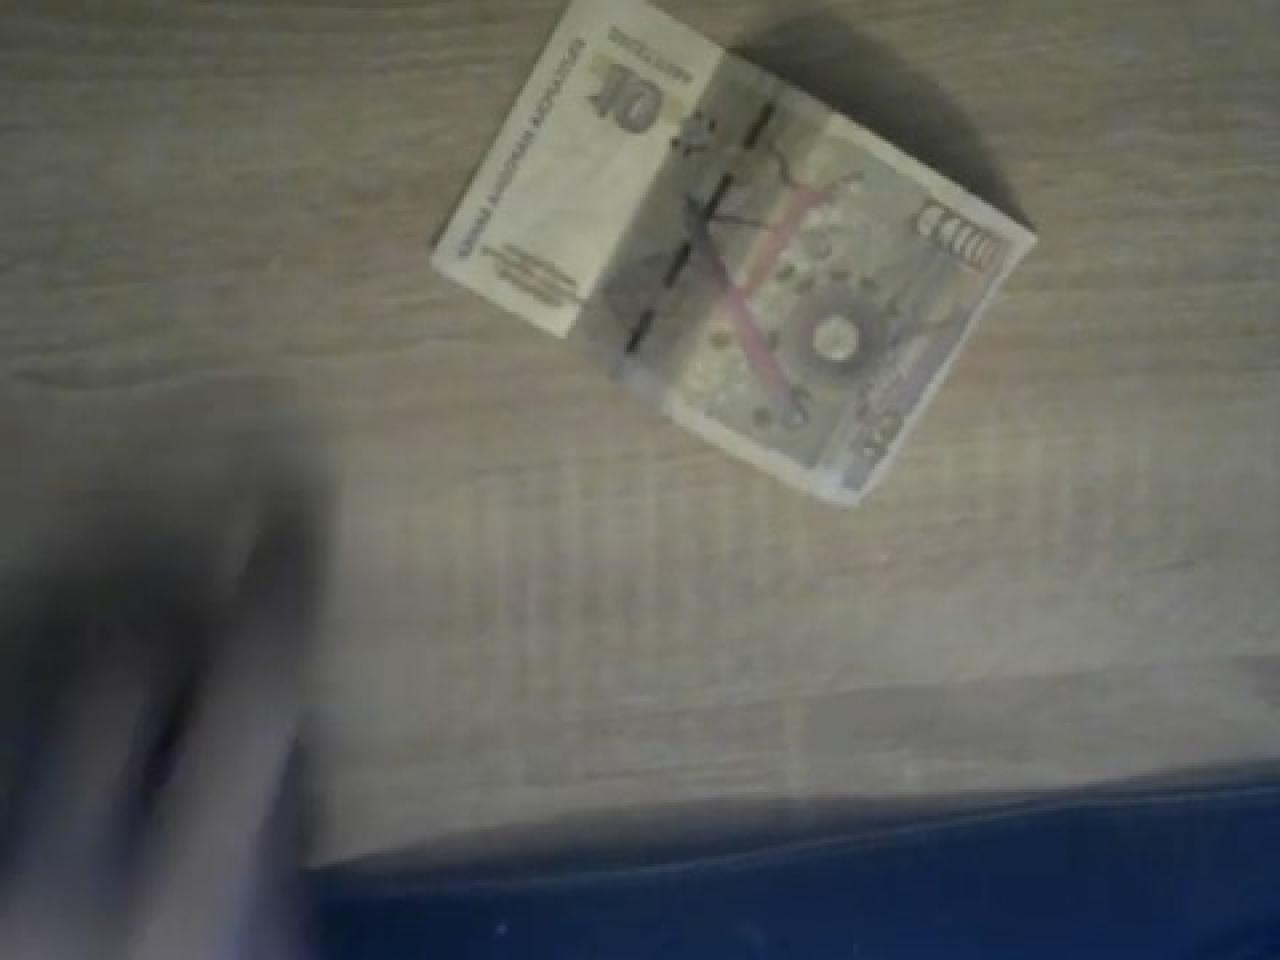10leva: (426, 0, 1037, 504)
